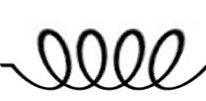inductor: (0, 28, 201, 93)
